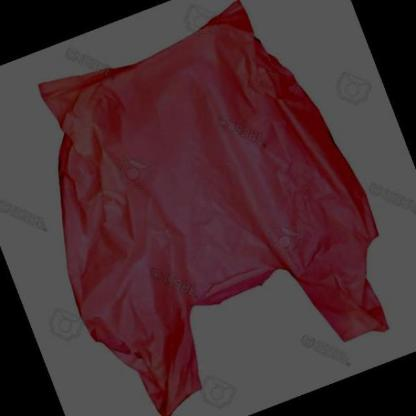Plastic Bag: (37, 0, 391, 414)
